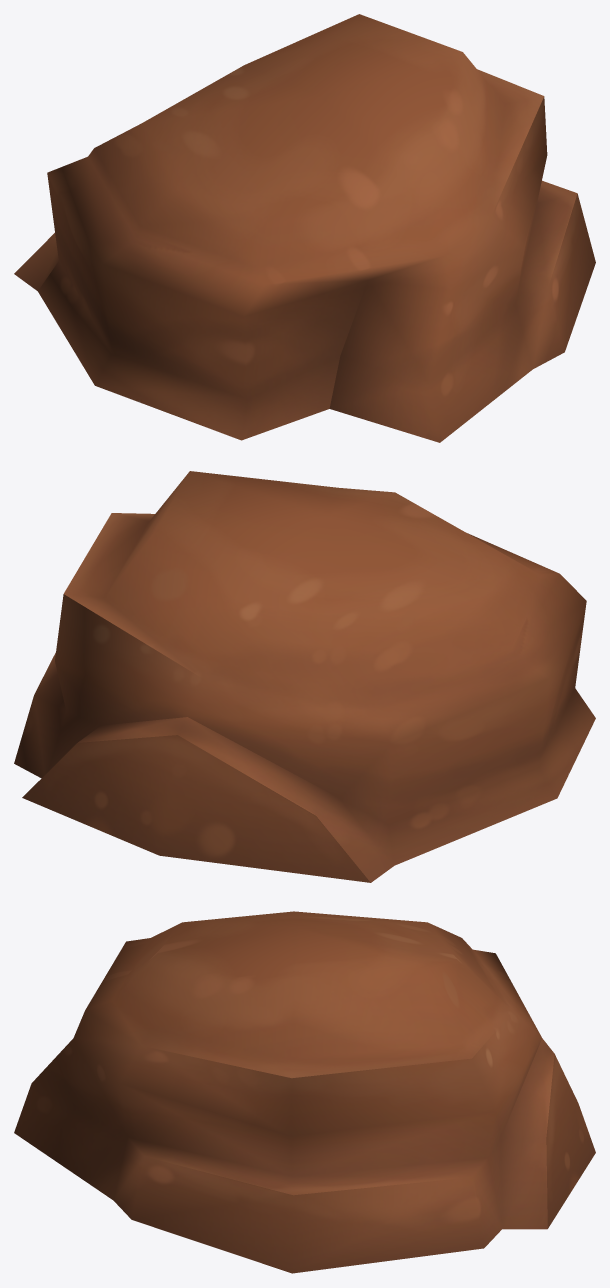
The model's file is RockFormation_08.fbx.
3 views of the same model, one above another, from view 1: azimuth 30°, elevation 25°; view 2: azimuth 150°, elevation 25°; view 3: azimuth 270°, elevation 25° (orthographic). The views are drawn at different scales.
Visible parts, largest first — view 1: RockFormation_08_GEO1; view 2: RockFormation_08_GEO1; view 3: RockFormation_08_GEO1.
Boxes of the visible parts, left/top/right/bottom form: RockFormation_08_GEO1: left=14, top=14, right=595, bottom=442; RockFormation_08_GEO1: left=14, top=471, right=595, bottom=882; RockFormation_08_GEO1: left=14, top=911, right=595, bottom=1273.
Bounding box in the file's own units: 4.33 × 1.99 × 4.55.
